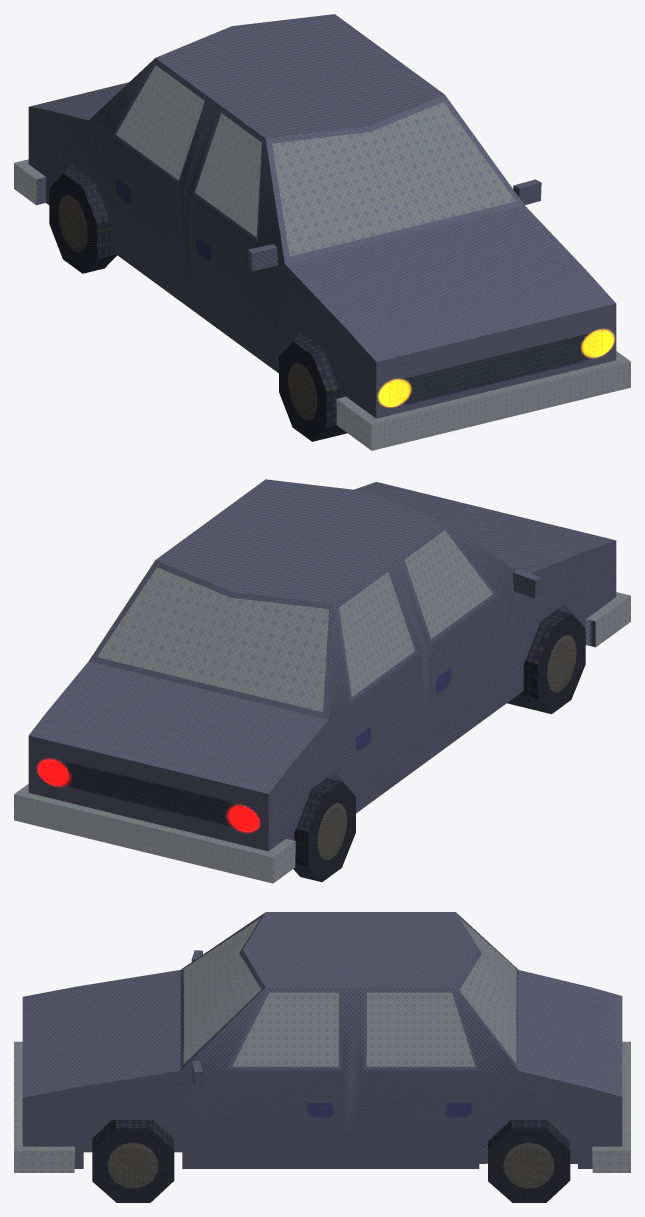
File: car.fbx
3 renders of one model, top to bottom at view 1: azimuth 30°, elevation 25°; view 2: azimuth 150°, elevation 25°; view 3: azimuth 270°, elevation 25°, orthographic. The views are drawn at different scales.
Visible parts, largest first — view 1: pCylinder67; view 2: pCylinder67; view 3: pCylinder67.
Boxes of the visible parts, x1,y1,x2,y2 form: pCylinder67: (14,14,630,450); pCylinder67: (14,479,630,883); pCylinder67: (14,912,630,1202).
Bounding box in the file's own units: 2.24 × 1.7 × 4.78.
